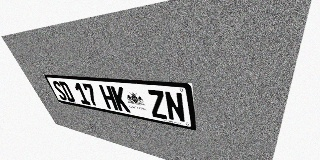1: (72, 82, 91, 105)
7: (81, 83, 100, 107)
D: (58, 81, 76, 102)
H: (98, 85, 118, 110)
K: (110, 86, 131, 113)
N: (163, 91, 186, 123)
S: (51, 80, 68, 101)
Z: (146, 89, 168, 120)
